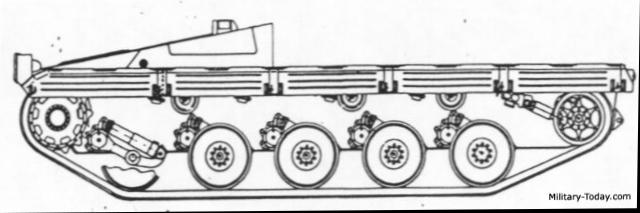tank: (18, 35, 620, 190)
